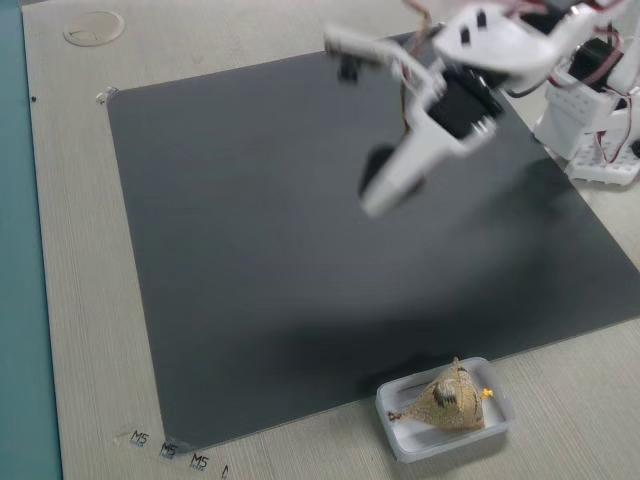gripper: (354, 69, 496, 221)
